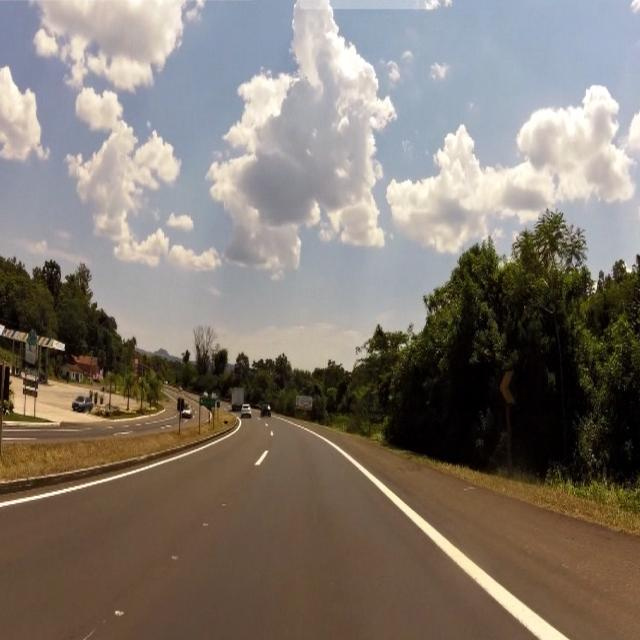Del: (498, 374, 518, 412)
